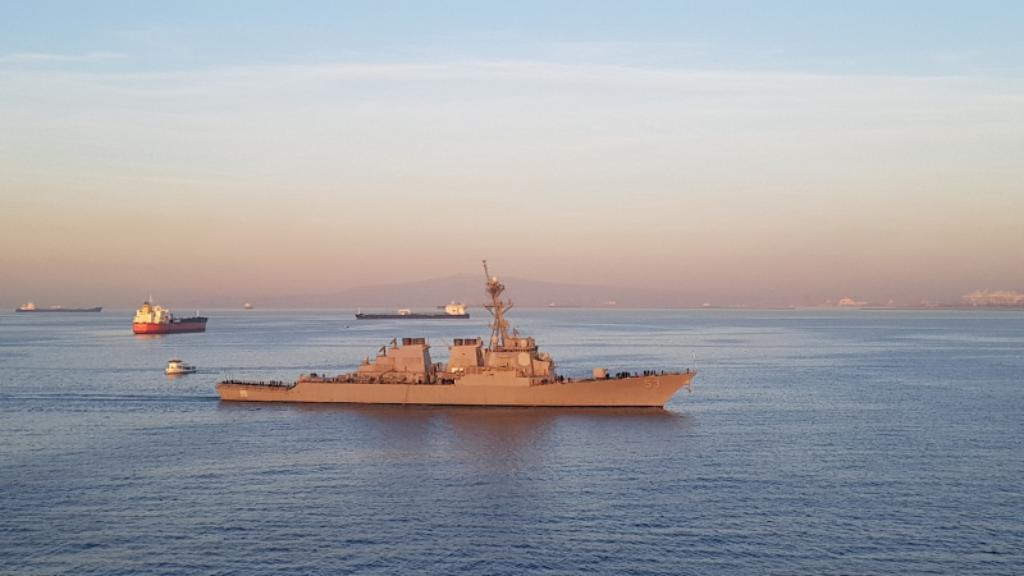Warship: (211, 256, 703, 412)
